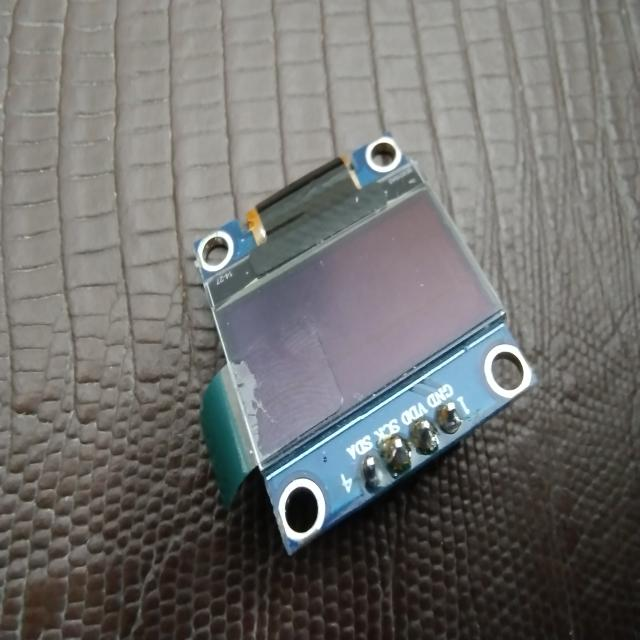oled: (189, 127, 543, 551)
